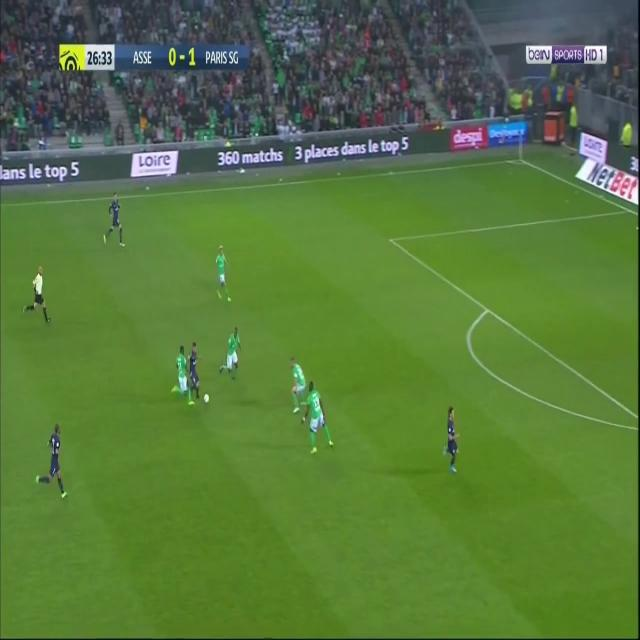Ball: (202, 390, 210, 410)
Player: (35, 417, 73, 505), (302, 380, 336, 460), (22, 264, 53, 328), (170, 341, 193, 413), (102, 190, 129, 250), (218, 324, 245, 382), (213, 242, 235, 306), (442, 404, 461, 477), (288, 352, 308, 416), (188, 335, 201, 405)
